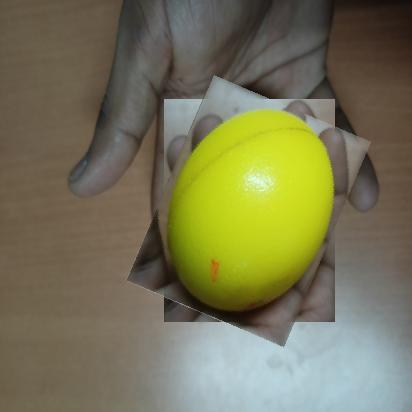Yellowball: (145, 87, 353, 335)
